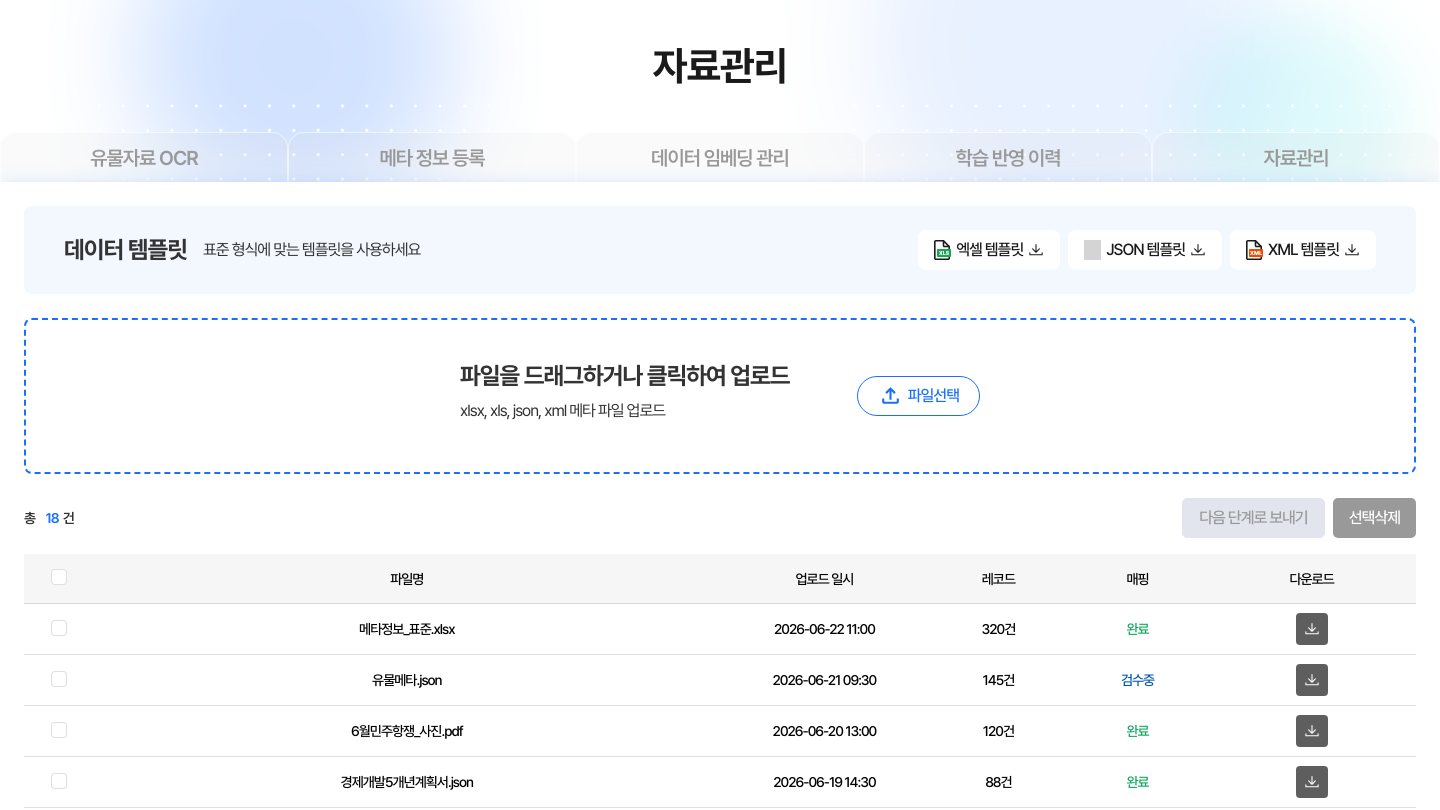
Test: Meta: 템플릿 다운로드는 준비중 — 정확한 문구로 토스트가 뜬다(D2a)
This screenshot has width=1440, height=810.
Click the button with class "template_bar_link" showing "엑셀 템플릿".
click(989, 250)  # box [918, 230, 1060, 270]
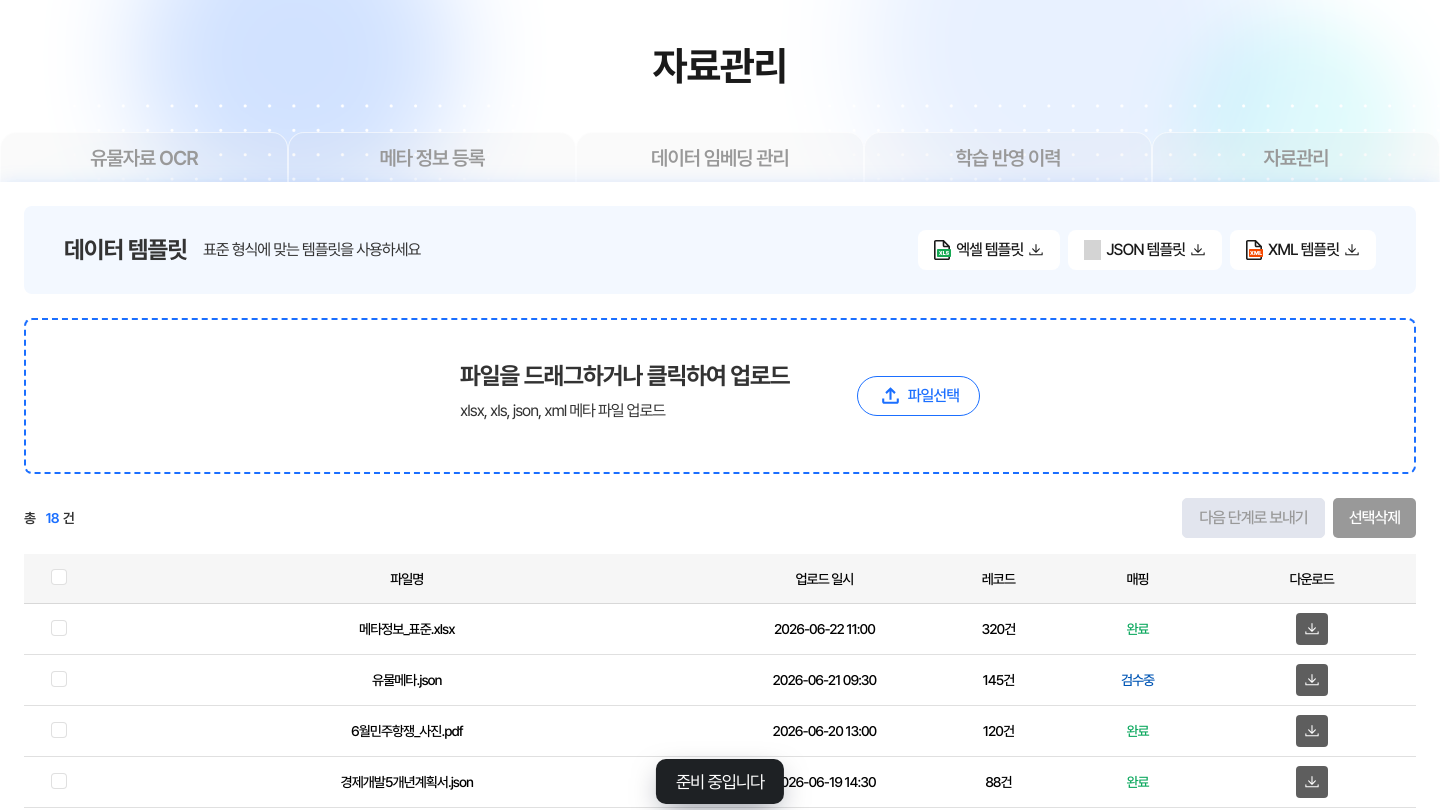
Now the message reads "준비 중입니다", box [676, 771, 764, 792]
